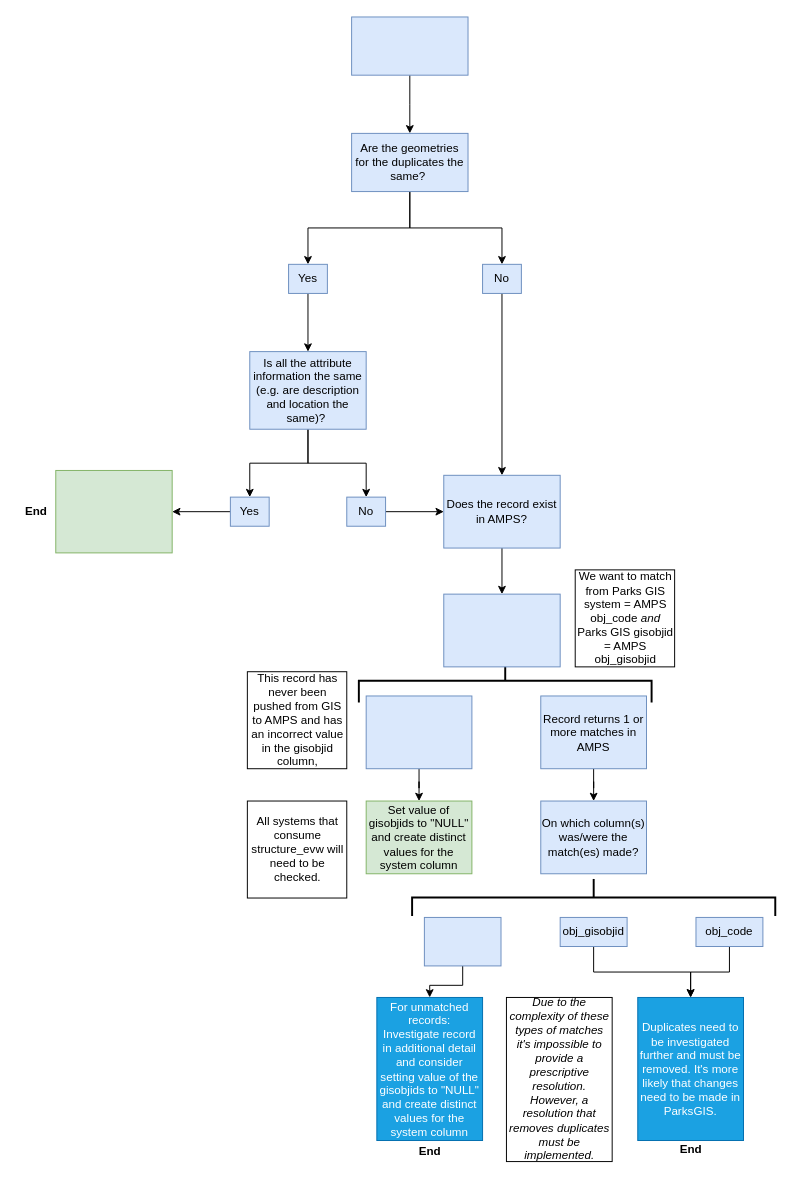
This 792x1180 diagram has some shape labels left out. The shapes that lost their labels are listed below. From the top down, each one's centre as x and y in pixels, then its label:
[409,45]: Duplicate value in the SYSTEM column of ParksGIS structures
[113,511]: Delete duplicate record from Production Parks GIS structure_evw
[501,630]: Does the record in GIS have a value for the gisobjid column?
[418,732]: Record returns 0 matches in AMPS
[462,941]: Both obj_gisobjid and obj_code
